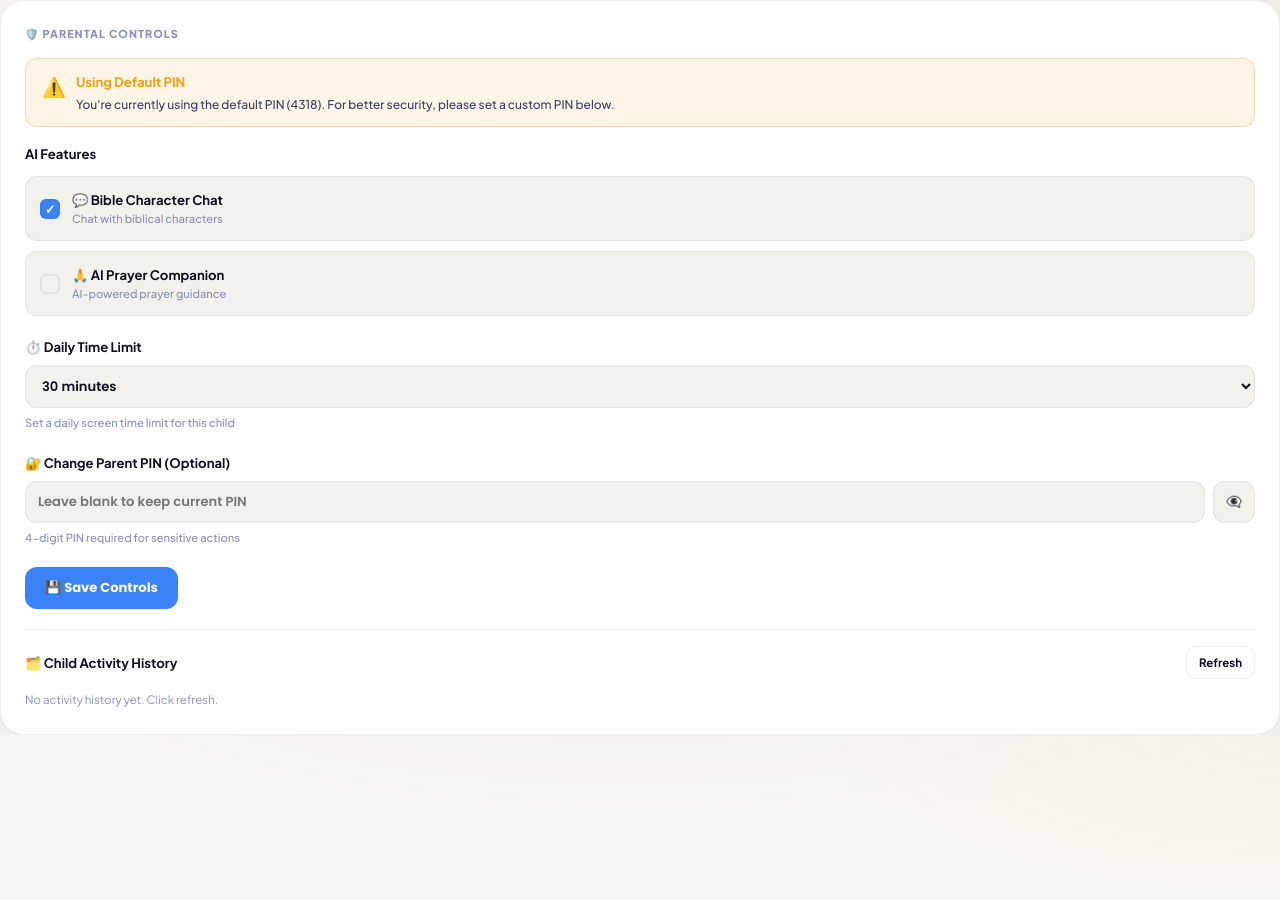
Scenario: ParentalControlsPanel › closes PIN modal when cancel is clicked
What coordinates should you click on to do the following:
click the button "💾 Save Controls"
I would click on:
 (101, 588)
Its box is [25,567,178,609].
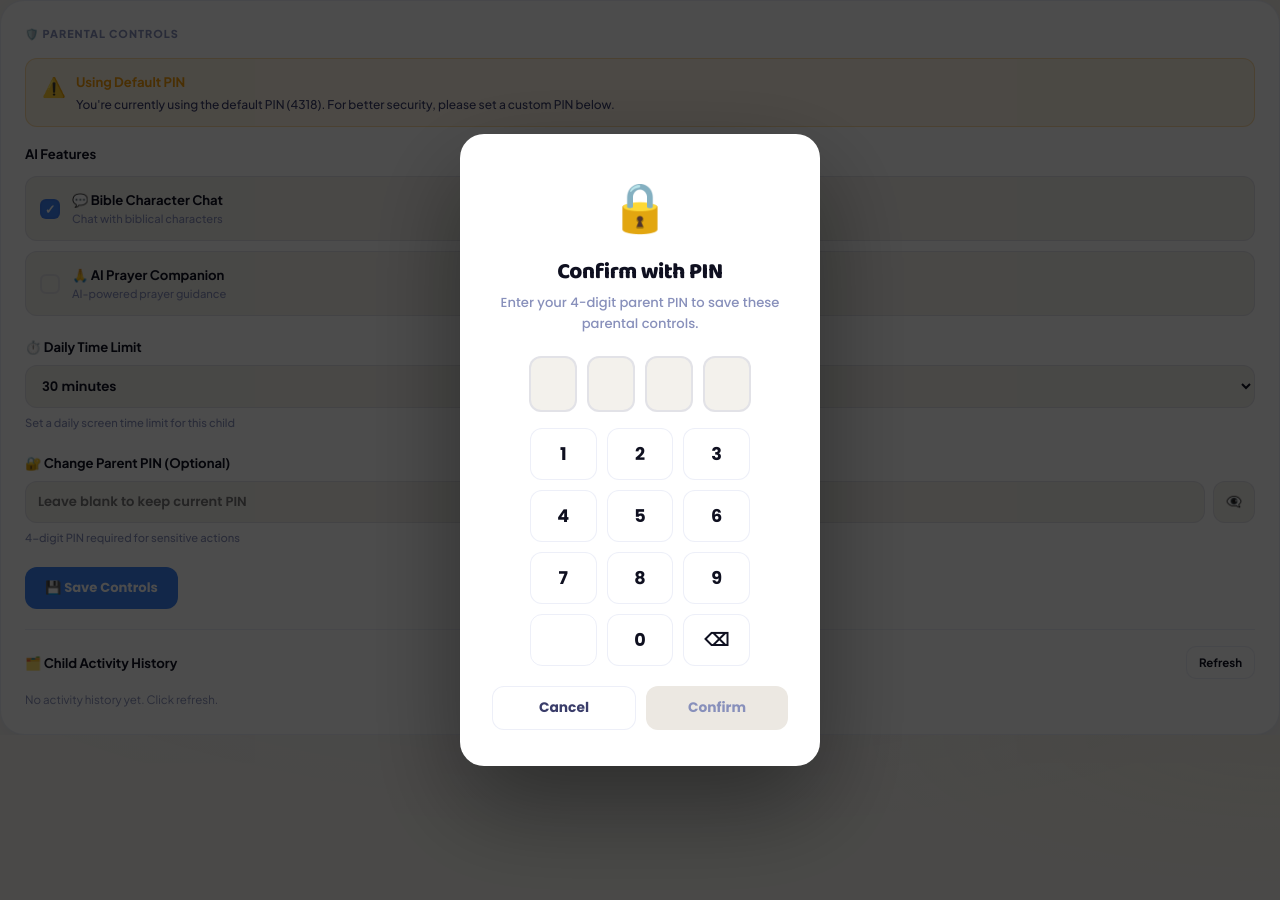
What coordinates should you click on to do the following:
click the button "Cancel"
I would click on:
 (564, 708)
Its box is [492,686,636,730].
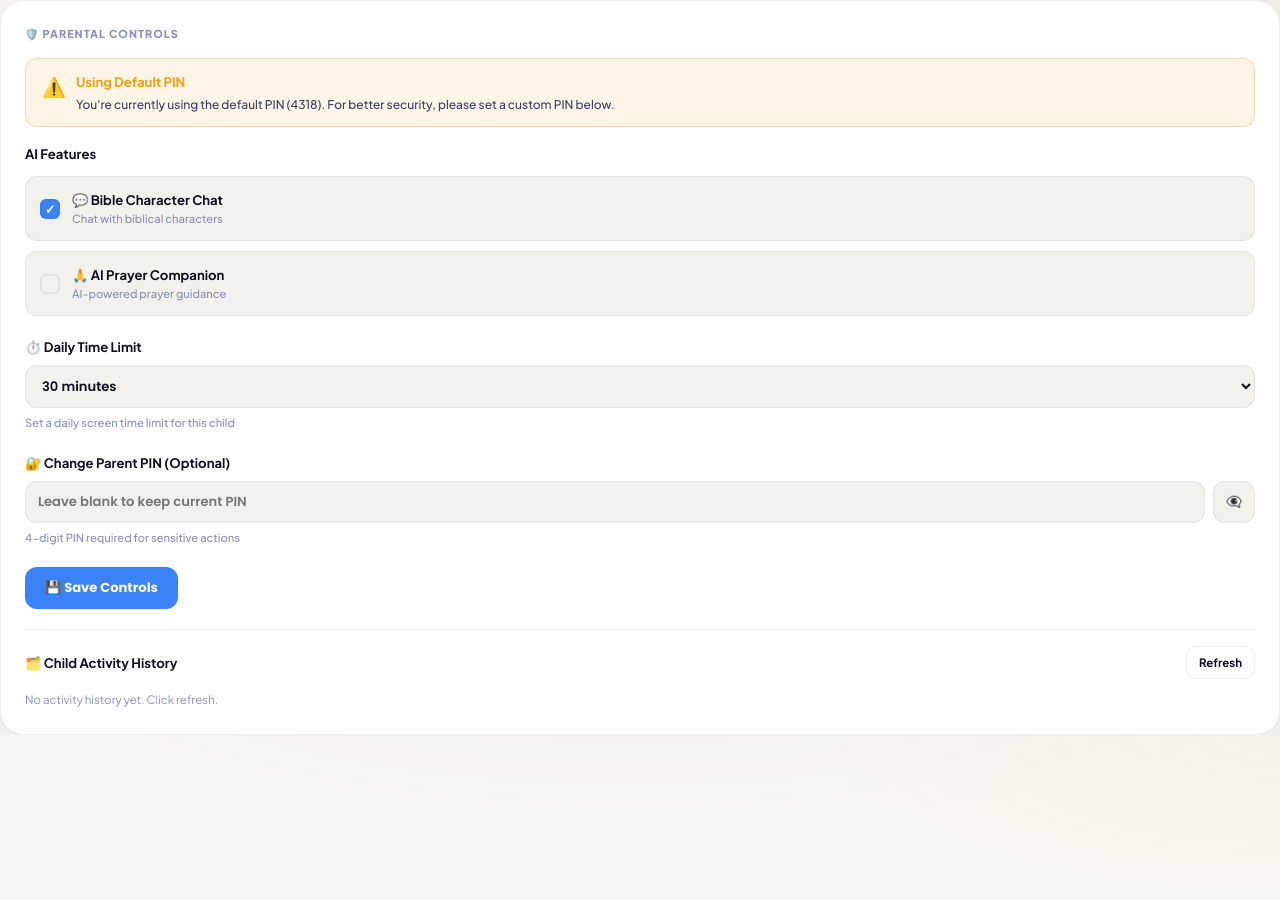
Result: the heading "Confirm with PIN" is gone
